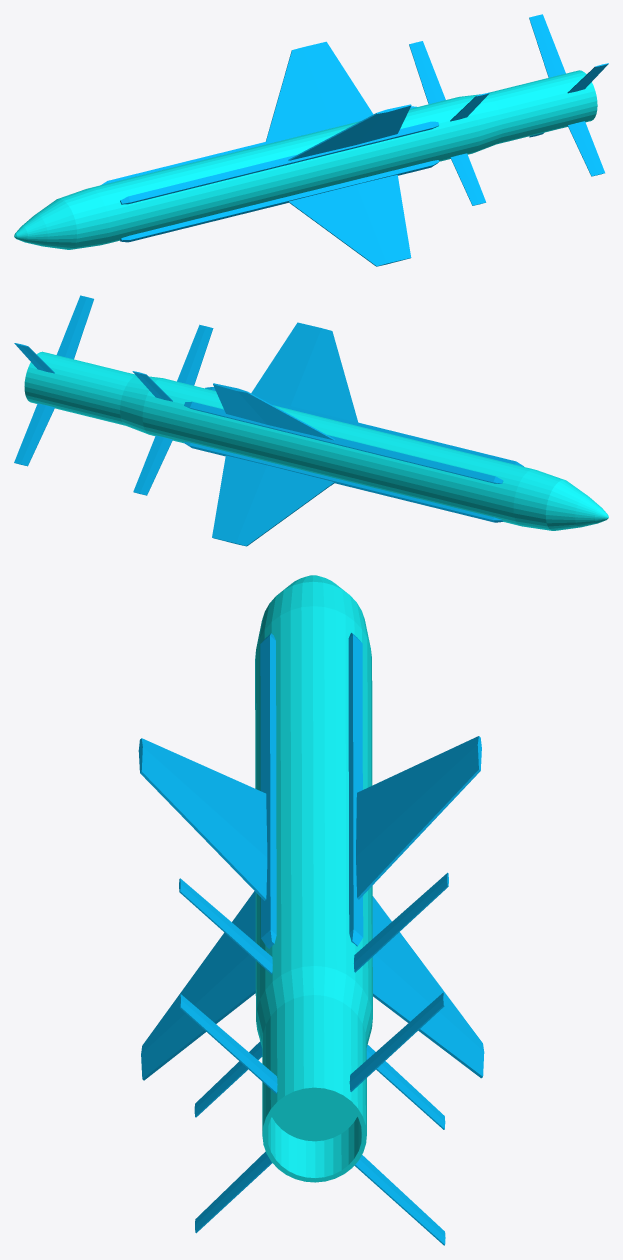
Rendered from Missile.fbx.
3 views of the same model, one above another, from view 1: azimuth 30°, elevation 25°; view 2: azimuth 150°, elevation 25°; view 3: azimuth 270°, elevation 25° (orthographic). The views are drawn at different scales.
Parts seen in each view (by area): view 1: Cylinder.001; view 2: Cylinder.001; view 3: Cylinder.001.
Part boxes in pixels (left/top/right/bottom): Cylinder.001: left=14, top=14, right=608, bottom=266; Cylinder.001: left=14, top=295, right=608, bottom=546; Cylinder.001: left=138, top=575, right=484, bottom=1245.
Bounding box in the file's own units: 3561 × 933 × 933.
